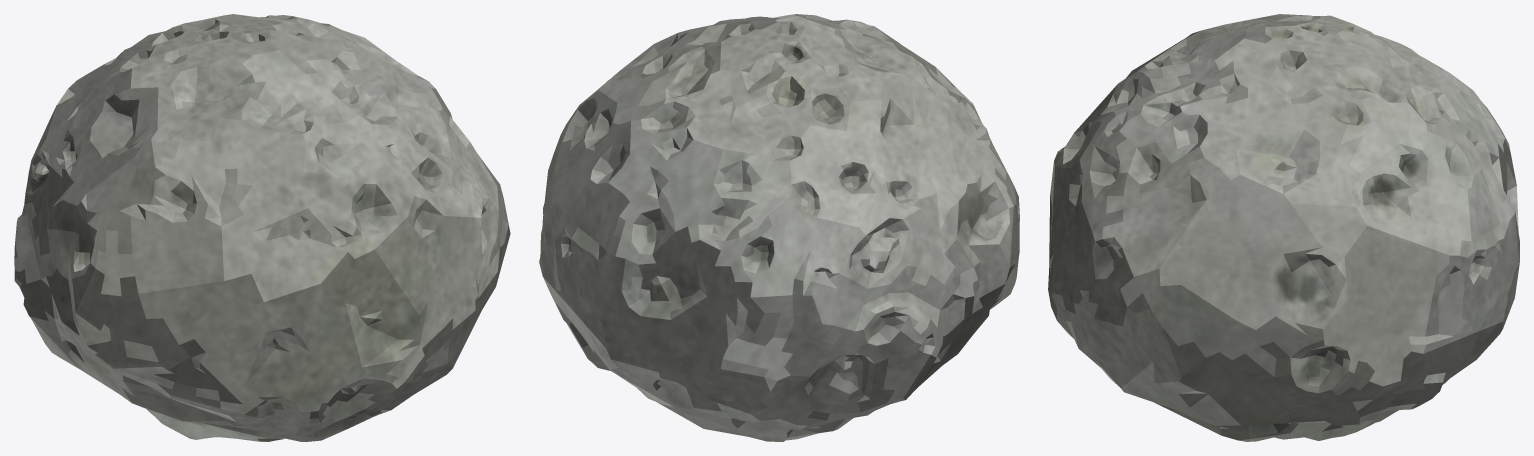
File: asteroid_03.glb
The picture shows the model from 3 angles, left to right: view 1: azimuth 30°, elevation 25°; view 2: azimuth 150°, elevation 25°; view 3: azimuth 270°, elevation 25°; orthographic projection.
Parts seen in each view (by area): view 1: Mesh_0; view 2: Mesh_0; view 3: Mesh_0.
Boxes of the visible parts, x1,y1,x2,y2 form: Mesh_0: (14, 14, 510, 441); Mesh_0: (539, 14, 1019, 441); Mesh_0: (1048, 14, 1519, 441).
Bounding box in the file's own units: 1.91 × 1.7 × 1.87.
1 material, 1 textured.
